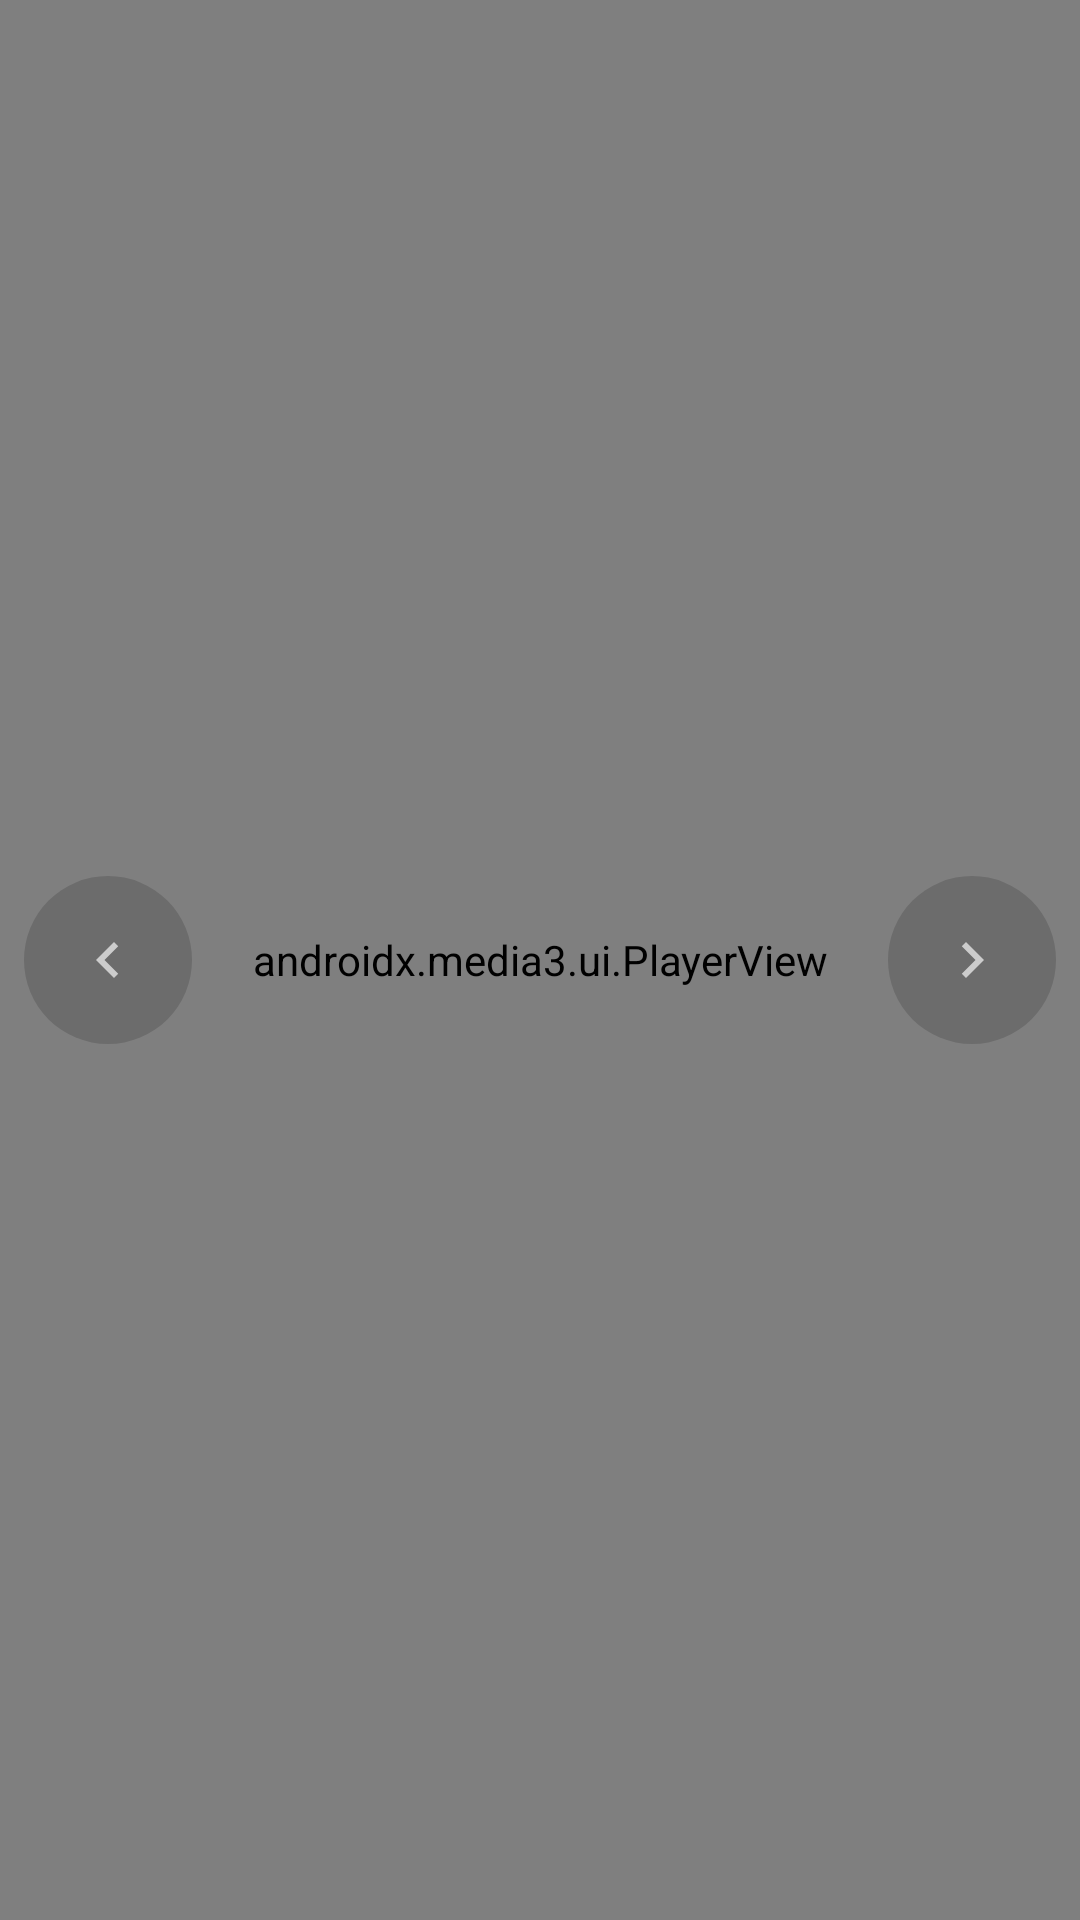

Icons on this 1080*1920 Android screen, each with the point to tap as point (x, y):
Channel berikutnya: point (972, 960)
Channel sebelumnya: point (108, 960)
